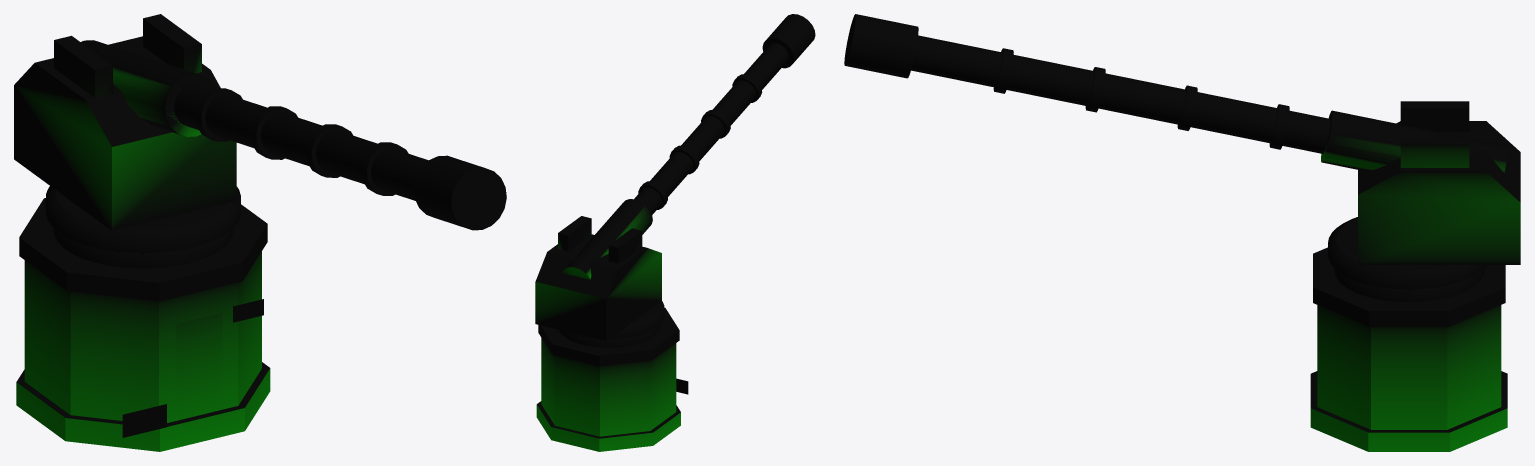
Rendered from longtomturret.glb.
3 renders of one model, left to right at view 1: azimuth 30°, elevation 25°; view 2: azimuth 150°, elevation 25°; view 3: azimuth 270°, elevation 25°, orthographic. The views are drawn at different scales.
Visible parts, largest first — view 1: lod0_Base, lod0_Turret, lod0_Gun, lod1_Gun, lod1_Turret; view 2: lod0_Base, lod0_Turret, lod0_Gun, lod1_Gun; view 3: lod0_Base, lod0_Turret, lod0_Gun, lod1_Turret, lod1_Gun.
Part boxes in pixels (x1,y1,x2,y2): lod0_Base: (16,198,270,451); lod0_Turret: (14,14,240,252); lod0_Gun: (81,40,506,230); lod1_Gun: (125,75,506,228); lod1_Turret: (47,188,239,253); lod0_Base: (536,307,688,451); lod0_Turret: (535,216,664,341); lod0_Gun: (562,14,815,279); lod1_Gun: (569,33,814,278); lod0_Base: (1310,247,1507,451); lod0_Turret: (1328,101,1520,289); lod0_Gun: (844,14,1507,172); lod1_Turret: (1329,217,1479,287); lod1_Gun: (846,18,1393,161).
Size of the model in its own units: 4.6 by 10.15 by 15.79.
